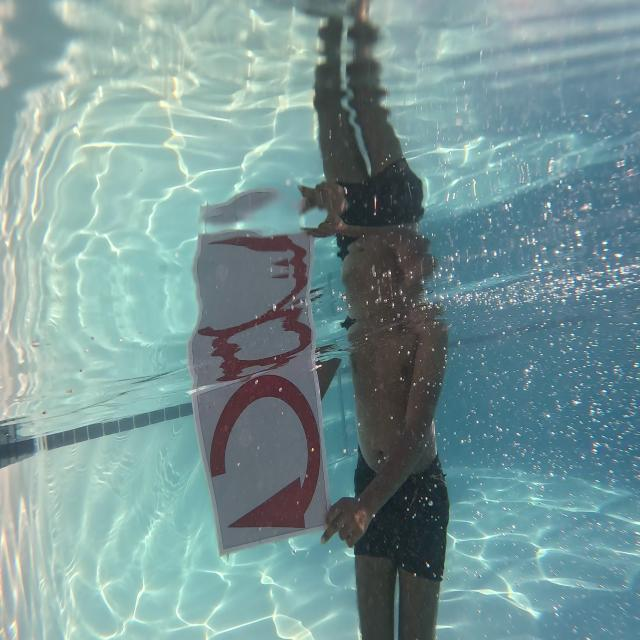red_side: (185, 369, 342, 557)
